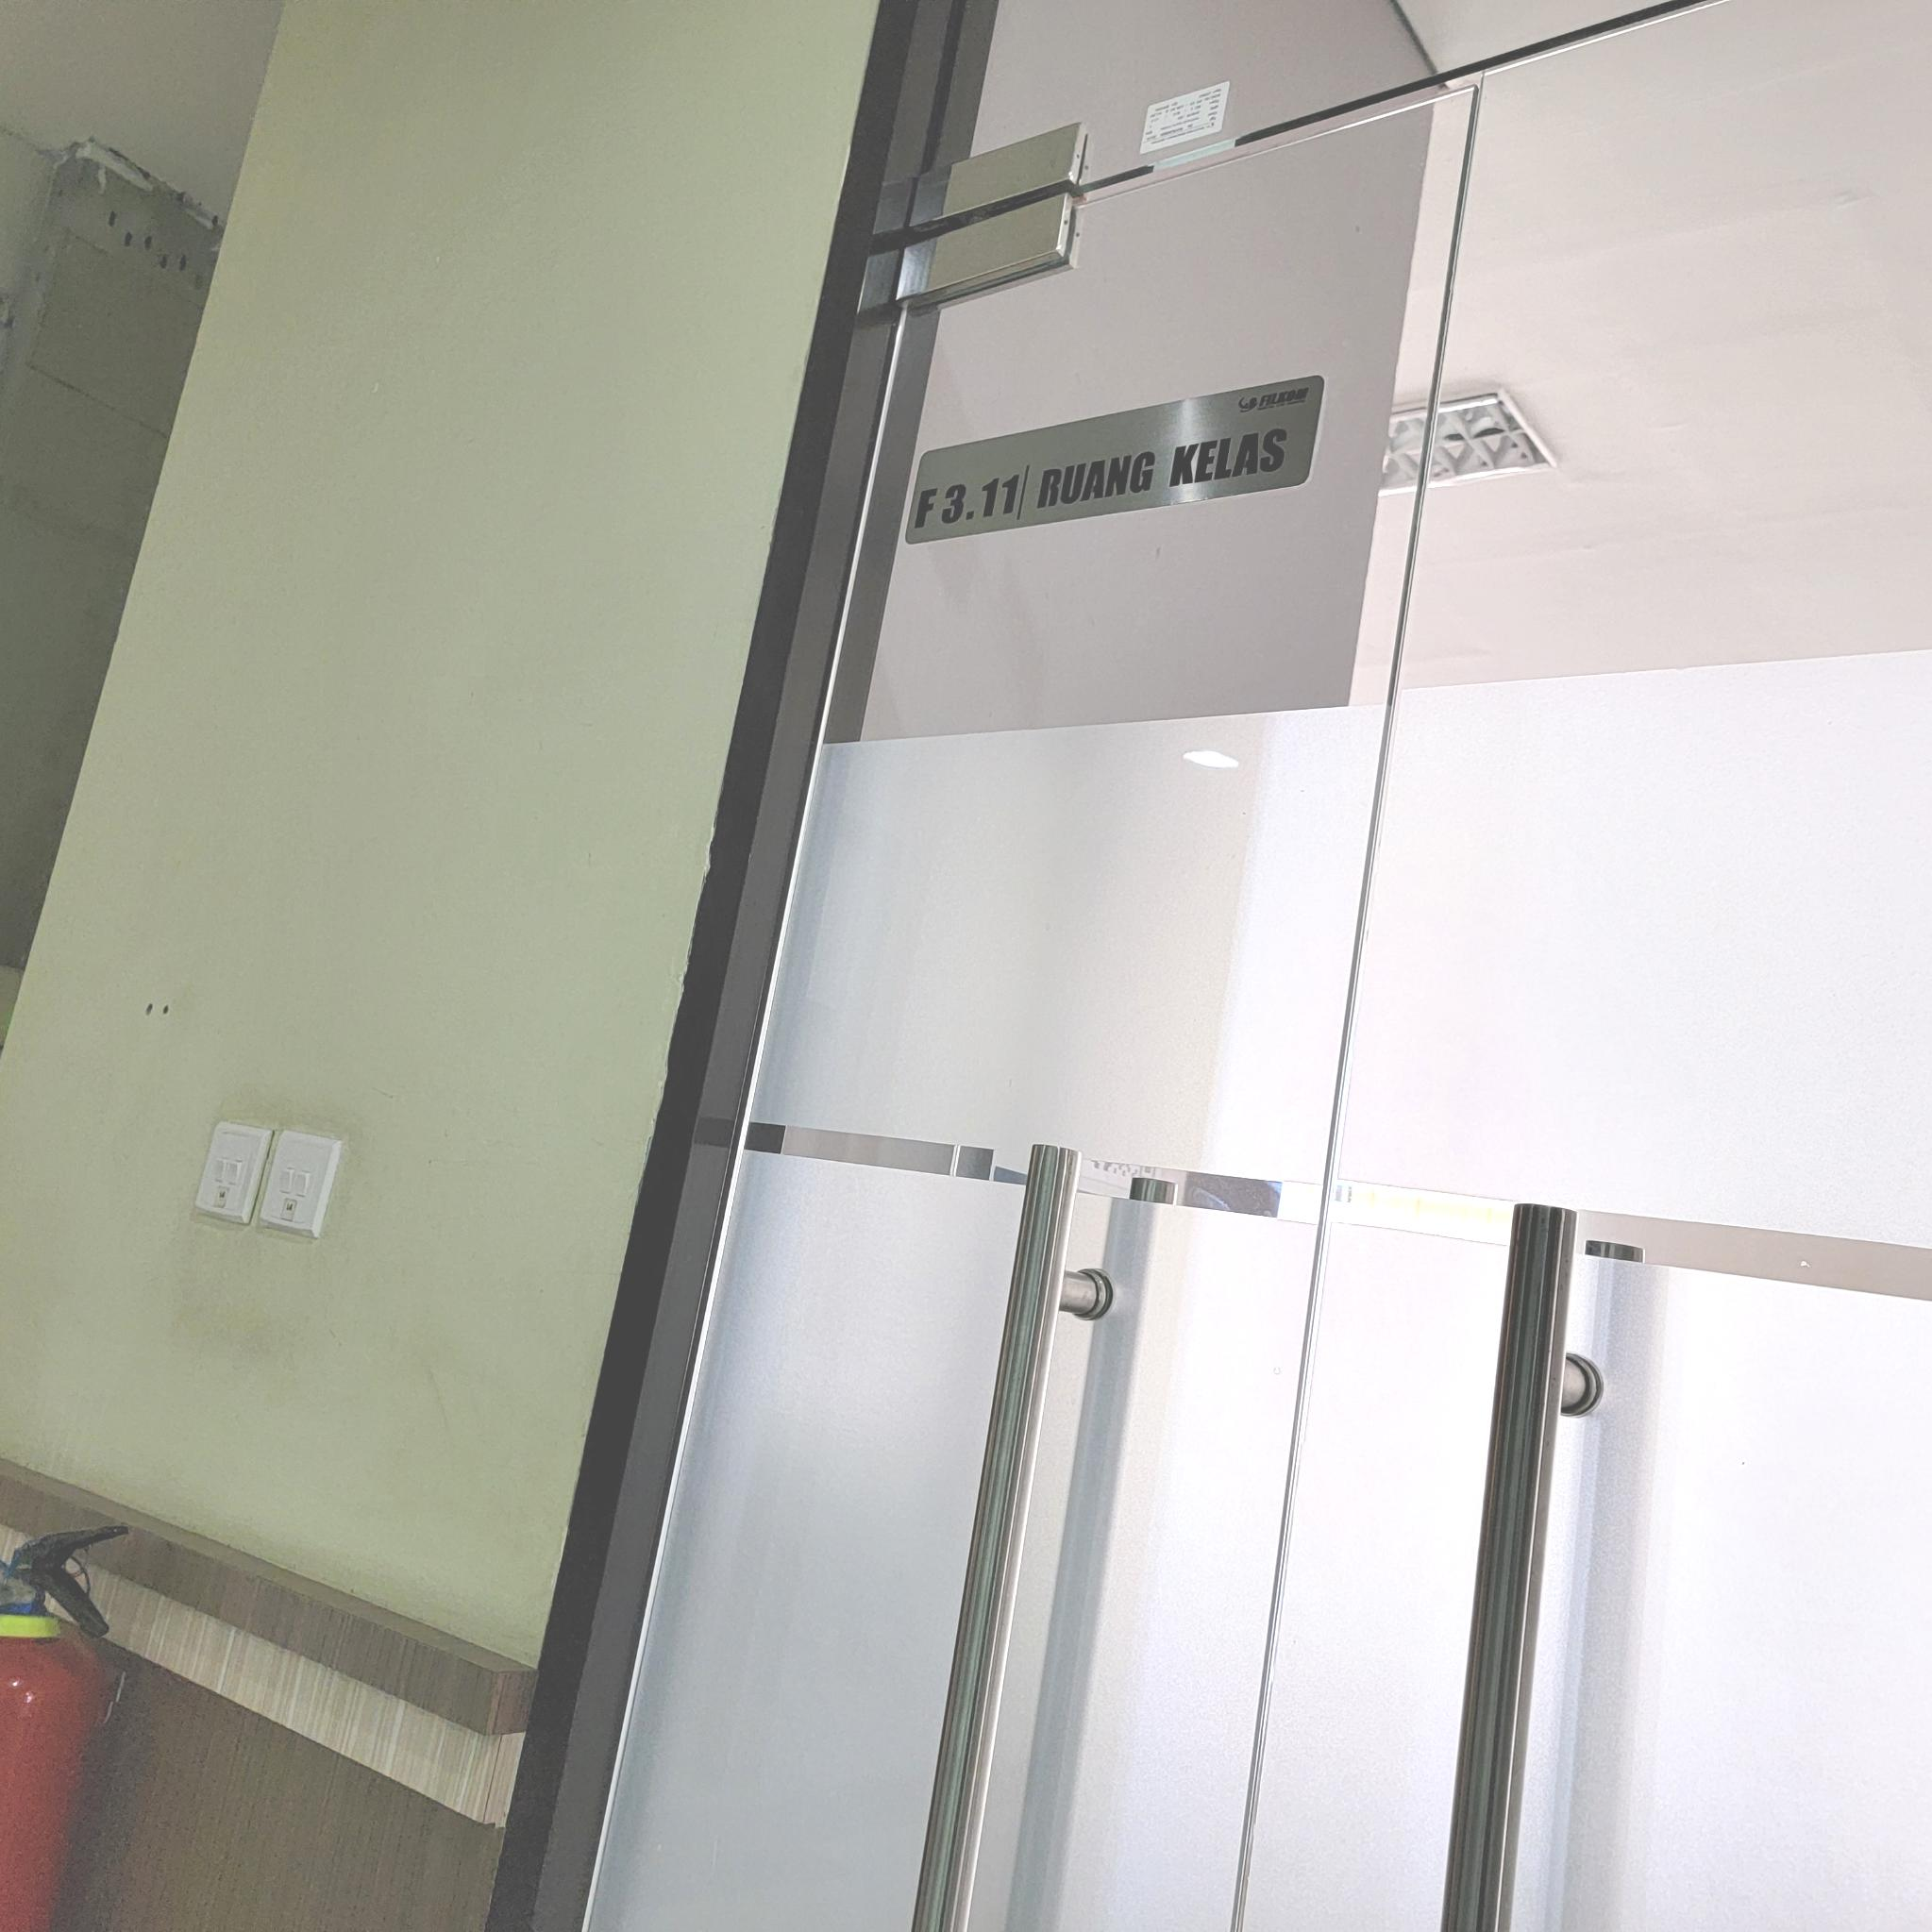plate: (904, 372, 1327, 547)
